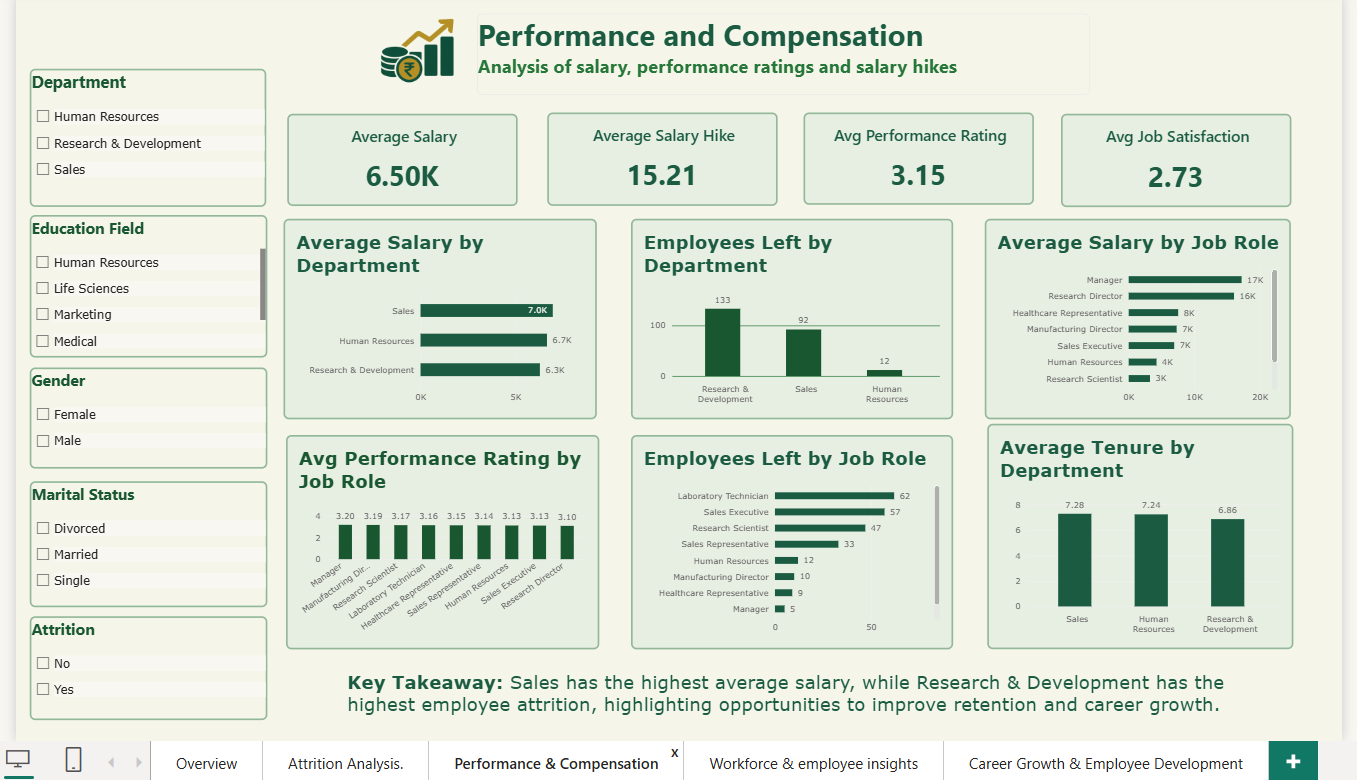

This screenshot's page, from the dashboard's own definition file:
{"tool":"powerbi","page":{"name":"Performance & Compensation","canvas":[1920,1080],"ordinal":2},"visuals":[{"type":"textbox","box":[667.5,27.5,887.5,117.5],"z":0},{"type":"clusteredBarChart","title":"Average Salary by Department","fields":{"Category":["HR_Analytics_Final.Department"],"Y":["Avg(HR_Analytics_Final.MonthlyIncome)"]},"box":[386.7,323.3,453.3,290],"z":1000},{"type":"clusteredColumnChart","title":"Employees Left by Department","fields":{"Category":["HR_Analytics_Final.Department"],"Y":["HR_Analytics_Final.Employees Left"]},"box":[890,323.3,466.7,290],"z":2000},{"type":"clusteredBarChart","title":"Average Salary by Job Role","fields":{"Category":["HR_Analytics_Final.JobRole"],"Y":["Avg(HR_Analytics_Final.MonthlyIncome)"]},"box":[1403.3,323.3,443.3,290],"z":3000},{"type":"clusteredColumnChart","title":"Avg Performance Rating by Job Role","fields":{"Category":["HR_Analytics_Final.JobRole"],"Y":["Avg(HR_Analytics_Final.PerformanceRating)"]},"box":[390,636.7,453.3,310],"z":4000},{"type":"clusteredColumnChart","title":"Average Tenure by Department","fields":{"Category":["HR_Analytics_Final.Department"],"Y":["Avg(HR_Analytics_Final.YearsAtCompany)"]},"box":[1406.7,620,443.3,326.7],"z":5000},{"type":"card","title":"Average Salary","fields":{"Values":["HR_Analytics_Final.Average Salary"]},"box":[393.3,172.3,333.3,133.3],"z":6000},{"type":"card","title":"Average Salary Hike","fields":{"Values":["HR_Analytics_Final.Average Salary Hike"]},"box":[768.3,170.7,333.3,135],"z":7000},{"type":"card","title":"Avg Performance Rating","fields":{"Values":["HR_Analytics_Final.Average Performance Rating"]},"box":[1140,170.7,333.3,133.3],"z":8000},{"type":"card","title":"Avg Job Satisfaction","fields":{"Values":["HR_Analytics_Final.Average Job Satisfaction"]},"box":[1513.3,172.3,333.3,135],"z":9000},{"type":"slicer","title":"Education Field","fields":{"Values":["HR_Analytics_Final.EducationField"]},"box":[19.5,318,344,206],"z":10000},{"type":"slicer","title":"Gender","fields":{"Values":["HR_Analytics_Final.Gender"]},"box":[19.5,540,344,146],"z":11000},{"type":"slicer","title":"Department","fields":{"Values":["HR_Analytics_Final.Department"]},"box":[20,107.5,342.5,200],"z":12000},{"type":"slicer","title":"Marital Status","fields":{"Values":["HR_Analytics_Final.MaritalStatus"]},"box":[19.5,704,344,182],"z":13000},{"type":"slicer","title":"Attrition","fields":{"Values":["HR_Analytics_Final.Attrition"]},"box":[19.5,900,344,150],"z":14000},{"type":"image","box":[462.5,12.5,235,132.5],"z":15000},{"type":"clusteredBarChart","title":"Employees Left by Job Role","fields":{"Category":["HR_Analytics_Final.JobRole"],"Y":["Sum(HR_Analytics_Final.AttritionCount)"]},"box":[890,636.7,466.7,310],"z":16000},{"type":"textbox","box":[480,976.7,1280,73.3],"z":17000}]}

Visuals, with their boxes on the page's 1920x1080 design canvas (x1, y1, x2, y2). These are canvas units, not pixel positions in the 1357x780 screenshot, which may show the page scaled, cropped or inside an application window:
textbox: region(668, 28, 1555, 145)
"Average Salary by Department" clusteredBarChart: region(387, 323, 840, 613)
"Employees Left by Department" clusteredColumnChart: region(890, 323, 1357, 613)
"Average Salary by Job Role" clusteredBarChart: region(1403, 323, 1847, 613)
"Avg Performance Rating by Job Role" clusteredColumnChart: region(390, 637, 843, 947)
"Average Tenure by Department" clusteredColumnChart: region(1407, 620, 1850, 947)
"Average Salary" card: region(393, 172, 727, 306)
"Average Salary Hike" card: region(768, 171, 1102, 306)
"Avg Performance Rating" card: region(1140, 171, 1473, 304)
"Avg Job Satisfaction" card: region(1513, 172, 1847, 307)
"Education Field" slicer: region(20, 318, 364, 524)
"Gender" slicer: region(20, 540, 364, 686)
"Department" slicer: region(20, 108, 362, 308)
"Marital Status" slicer: region(20, 704, 364, 886)
"Attrition" slicer: region(20, 900, 364, 1050)
image: region(462, 12, 698, 145)
"Employees Left by Job Role" clusteredBarChart: region(890, 637, 1357, 947)
textbox: region(480, 977, 1760, 1050)
